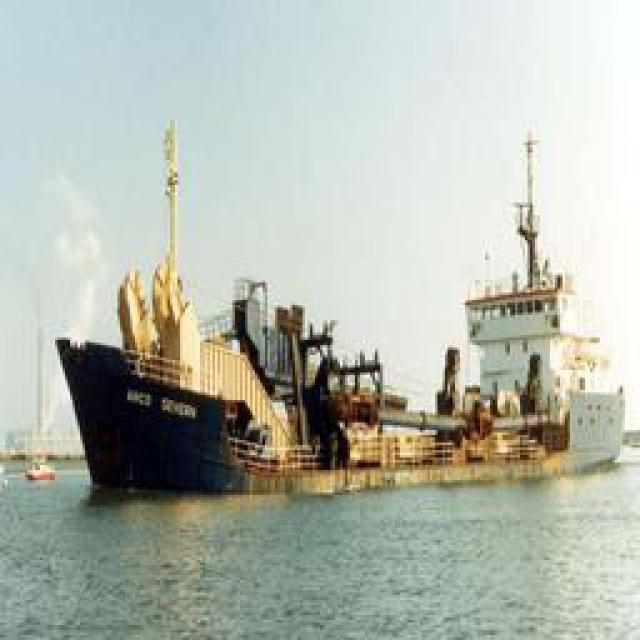Ship: (52, 241, 631, 493), (26, 458, 59, 483)
